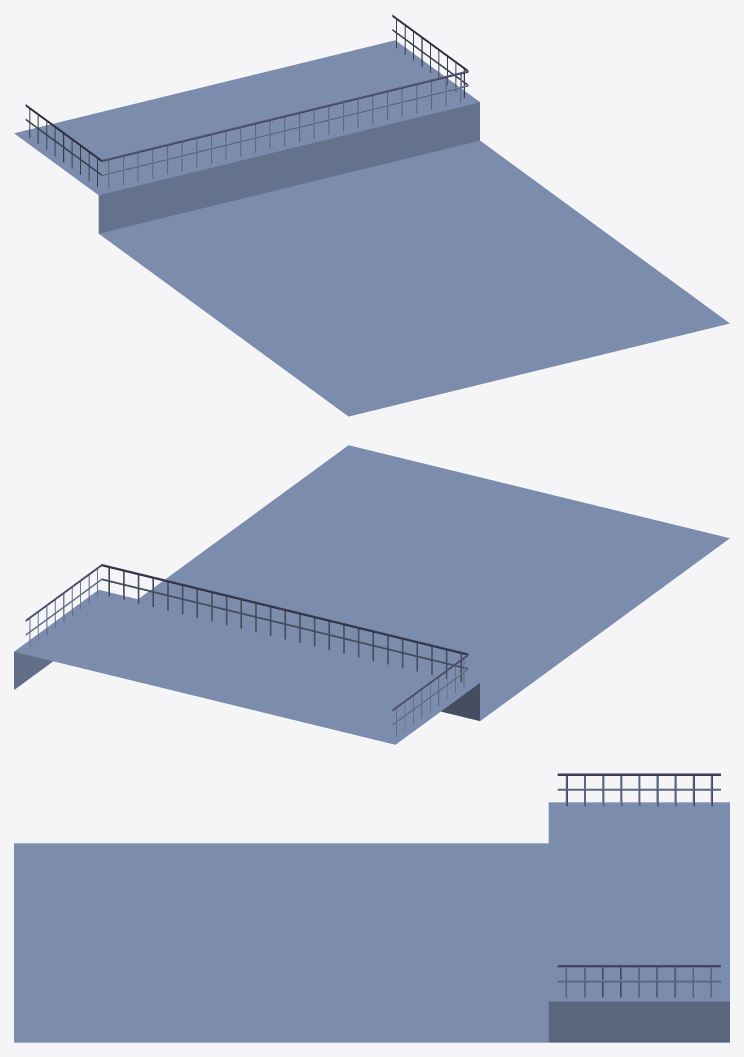
The model's file is launchpad.gltf.
3 renders of one model, top to bottom at view 1: azimuth 30°, elevation 25°; view 2: azimuth 150°, elevation 25°; view 3: azimuth 270°, elevation 25°, orthographic. The views are drawn at different scales.
Parts seen in each view (by area): view 1: launchpad; view 2: launchpad; view 3: launchpad.
Boxes of the visible parts, box(x1,y1,x2,y2) form: launchpad: box(14, 14, 729, 416); launchpad: box(14, 445, 729, 744); launchpad: box(14, 773, 729, 1042).
Bounding box in the file's own units: 13 × 2.25 × 19.75.
1 material, 1 textured.
